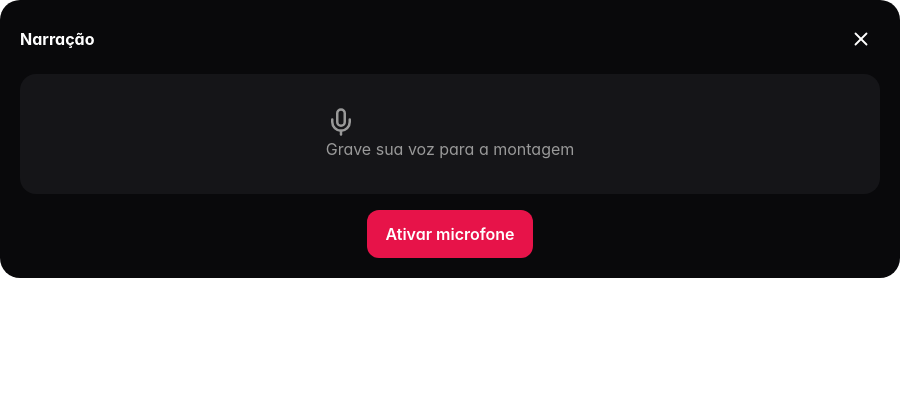
StudioRecorder com lifecycle React real › troca de modo invalida permissão antiga, para a entrada tardia e mantém só o novo listener
Click the button "Ativar microfone". click: (450, 234)
box: [368,210,532,258]
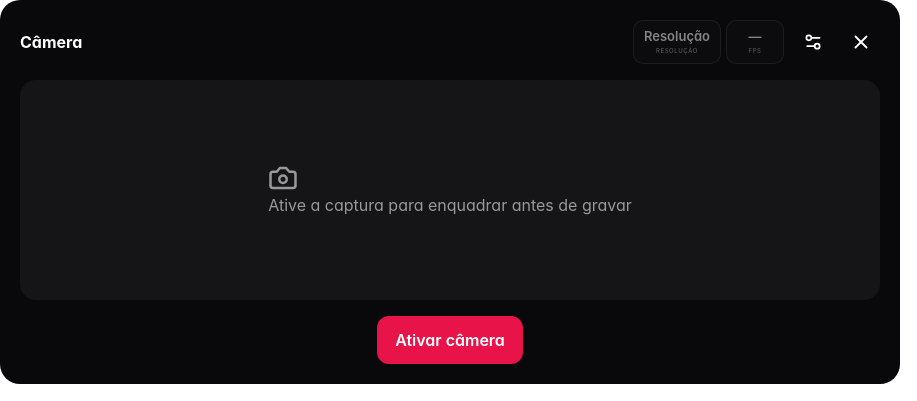
Result: the text "Ativar câmera" is shown at [377,316,523,364]
